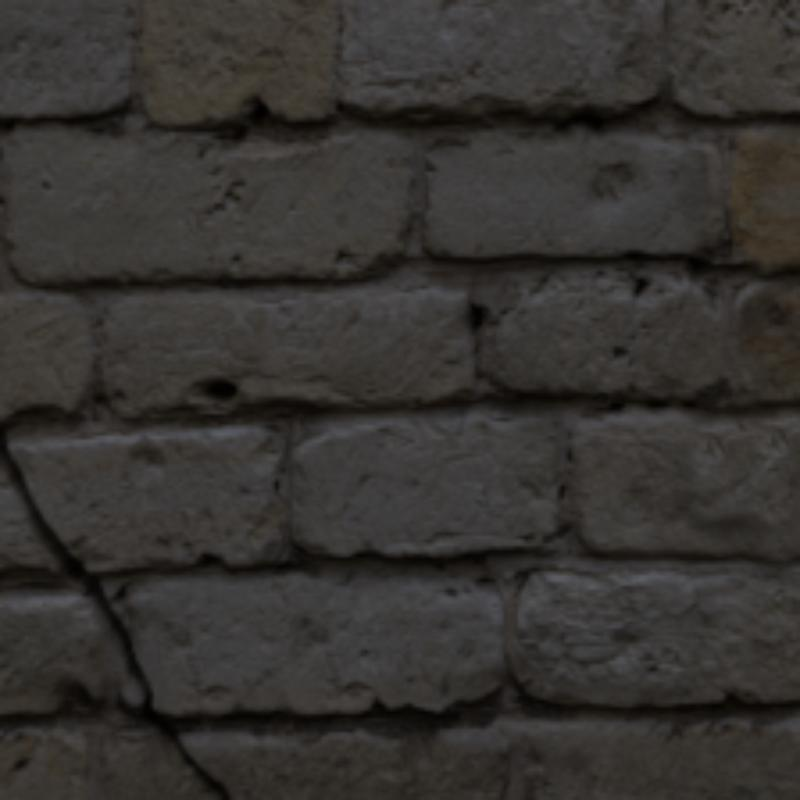pothole: (0, 425, 229, 796)
